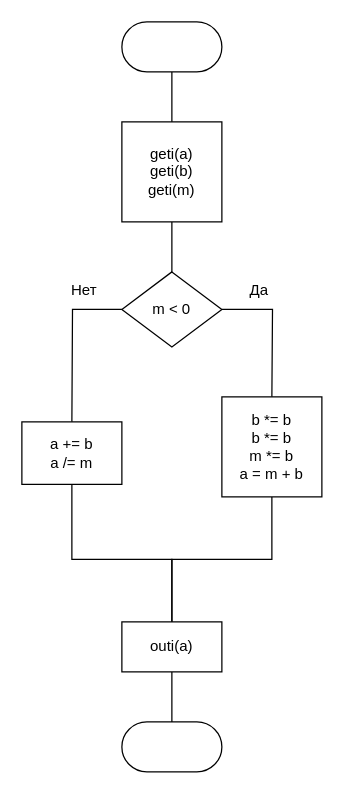
Image size: 344x794. Some labels were removed from this diagram. Here are the shapes that lost their labels. From the top down, the centre of each, then its label:
At [171,46]: "Начало".
At [171,746]: "Конец".
